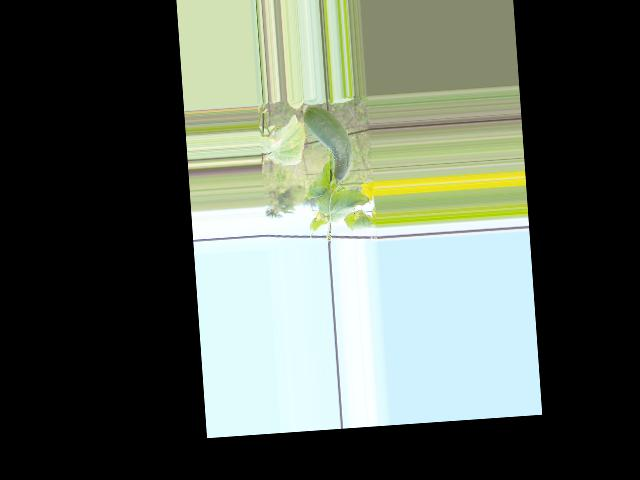cucumber: (302, 104, 354, 184)
